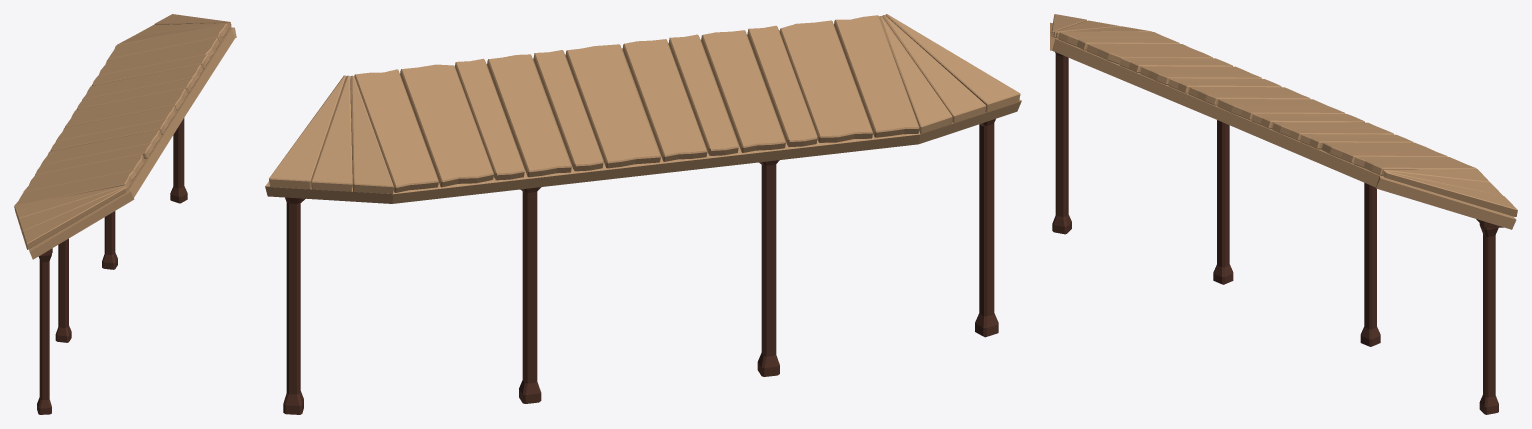
Rendered from balcony-f.glb.
3 views of the same model, side by side, from view 1: azimuth 30°, elevation 25°; view 2: azimuth 150°, elevation 25°; view 3: azimuth 270°, elevation 25° (orthographic). The views are drawn at different scales.
Parts seen in each view (by area): view 1: Balcony F (×2); view 2: Balcony F (×2); view 3: Balcony F (×2).
Part boxes in pixels (x1,y1,x2,y2): Balcony F (×2): [14, 14, 236, 414]; Balcony F (×2): [265, 14, 1021, 414]; Balcony F (×2): [1050, 14, 1517, 414].
Size of the model in its own units: 4.37 by 2.53 by 4.37.
